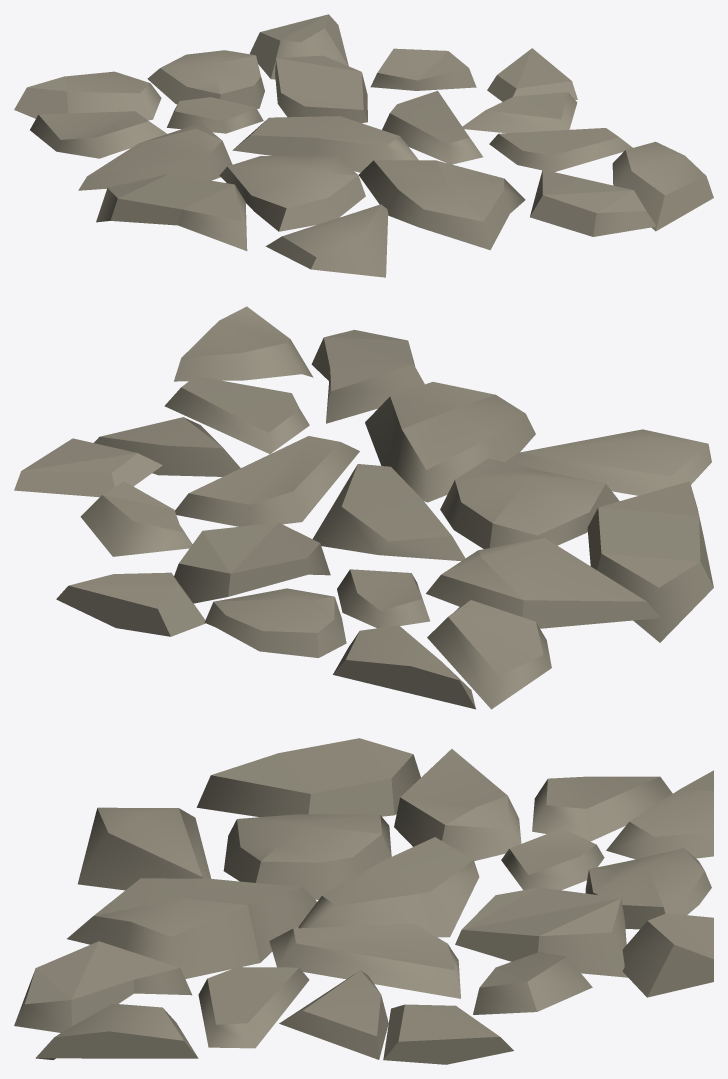
File: Stone_Path_Turn_LB.glb
3 renders of one model, top to bottom at view 1: azimuth 30°, elevation 25°; view 2: azimuth 150°, elevation 25°; view 3: azimuth 270°, elevation 25°, orthographic. The views are drawn at different scales.
Visible parts, largest first — view 1: Stone_Path_Turn_LB; view 2: Stone_Path_Turn_LB; view 3: Stone_Path_Turn_LB.
Boxes of the visible parts, left/top/right/bottom form: Stone_Path_Turn_LB: left=14, top=14, right=713, bottom=277; Stone_Path_Turn_LB: left=14, top=306, right=713, bottom=709; Stone_Path_Turn_LB: left=14, top=738, right=713, bottom=1064.
Size of the model in its own units: 1.28 by 0.1445 by 1.26.
